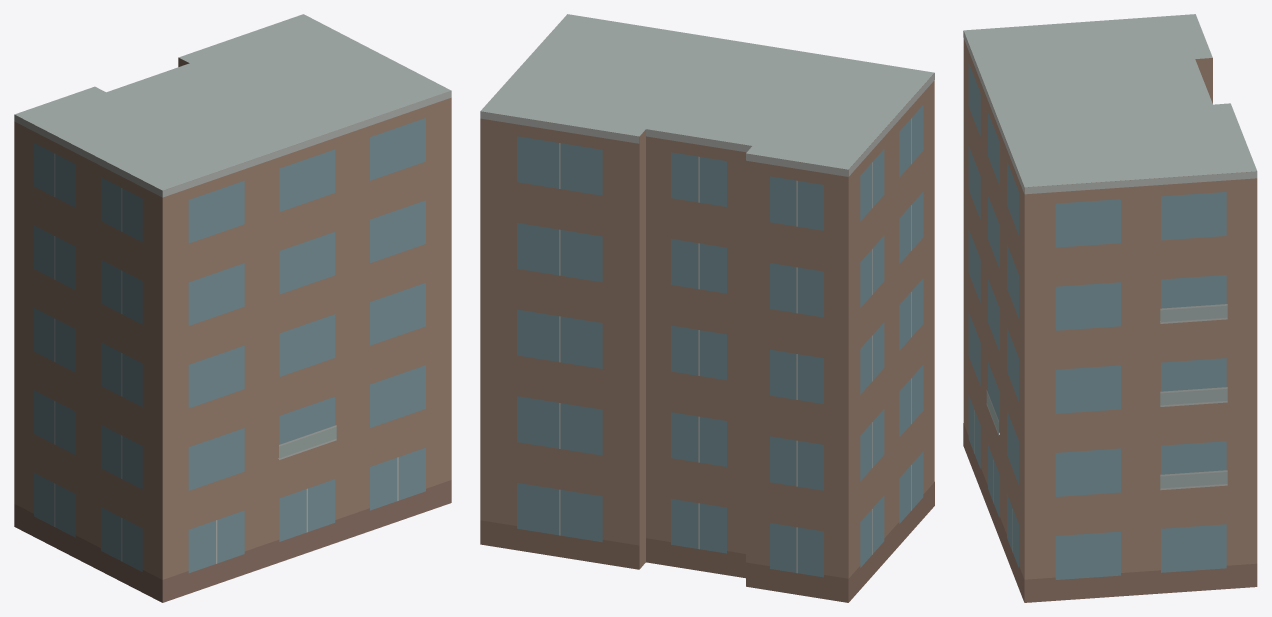
The model's file is survey-upis-32670968.glb.
The picture shows the model from 3 angles, left to right: view 1: azimuth 30°, elevation 25°; view 2: azimuth 150°, elevation 25°; view 3: azimuth 270°, elevation 25°; orthographic projection. The views are drawn at different scales.
Parts seen in each view (by area): view 1: survey-upis-32670968.tmp; view 2: survey-upis-32670968.tmp; view 3: survey-upis-32670968.tmp.
Boxes of the visible parts, <box> form: survey-upis-32670968.tmp: <box>14,14,451,602</box>; survey-upis-32670968.tmp: <box>480,14,934,602</box>; survey-upis-32670968.tmp: <box>963,14,1257,602</box>.
Size of the model in its own units: 12.98 by 14.5 by 9.31.
